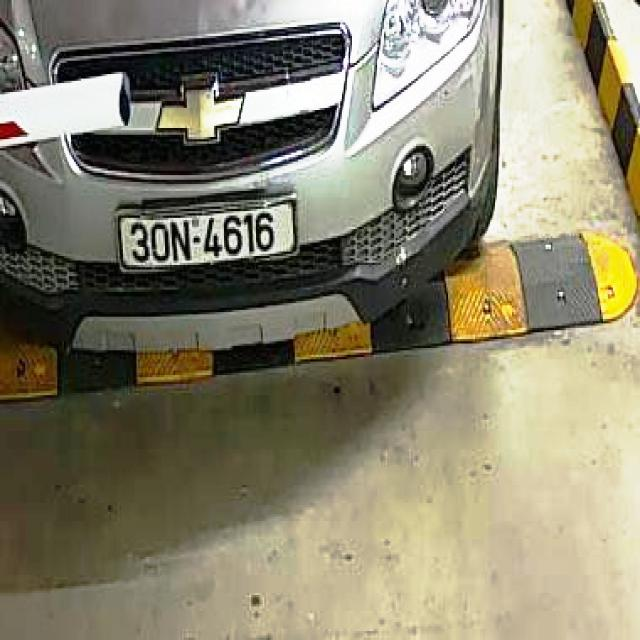license_plate: (115, 194, 301, 273)
